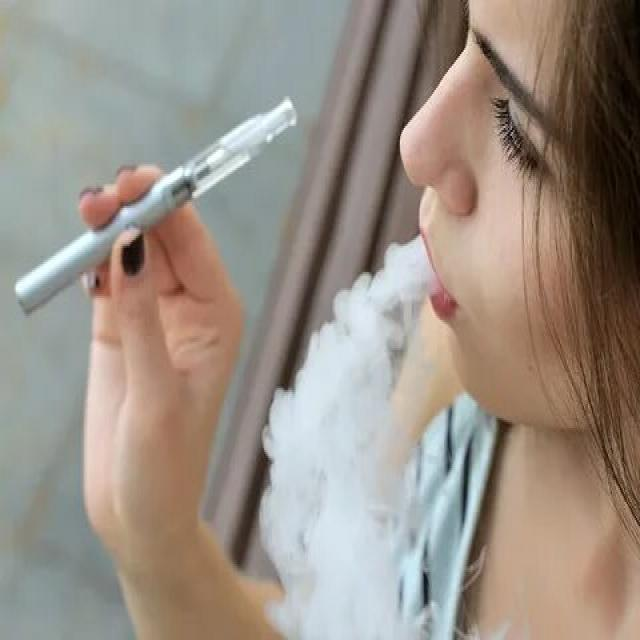smoke: (11, 94, 304, 324)
